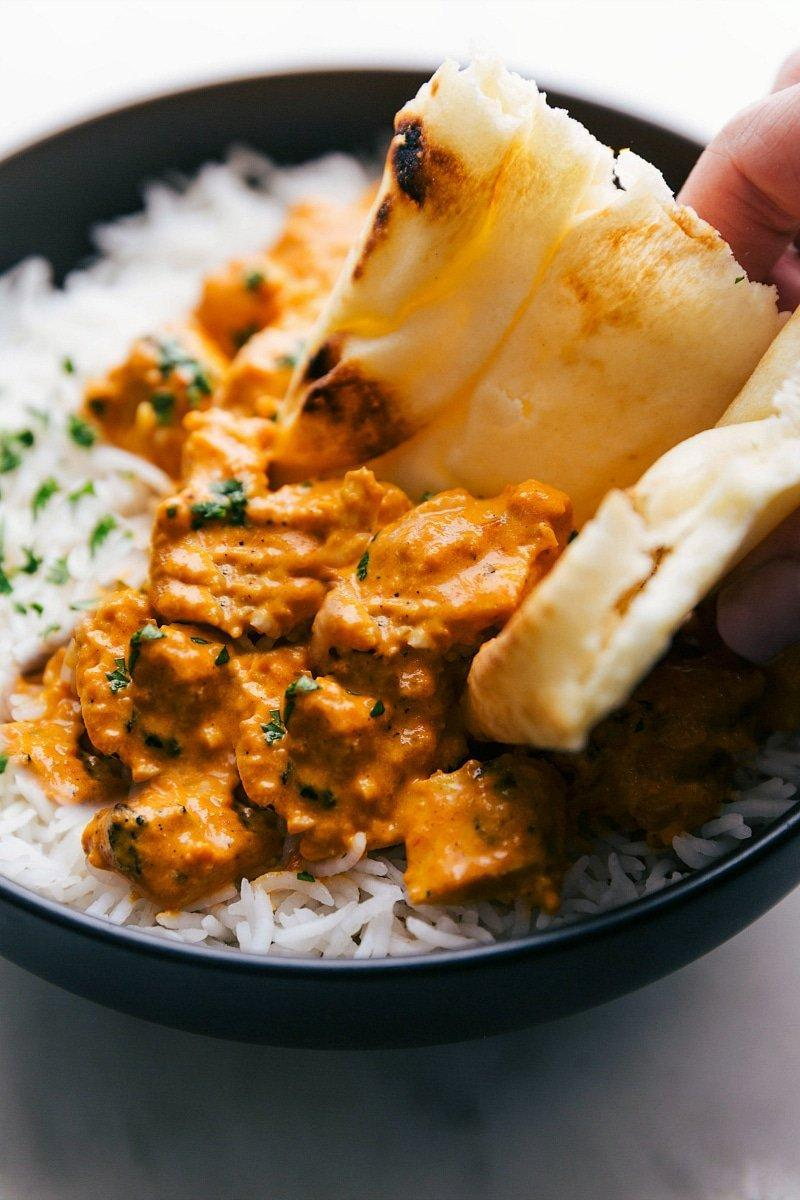chicken: (123, 345, 440, 869)
roti: (347, 95, 797, 706)
